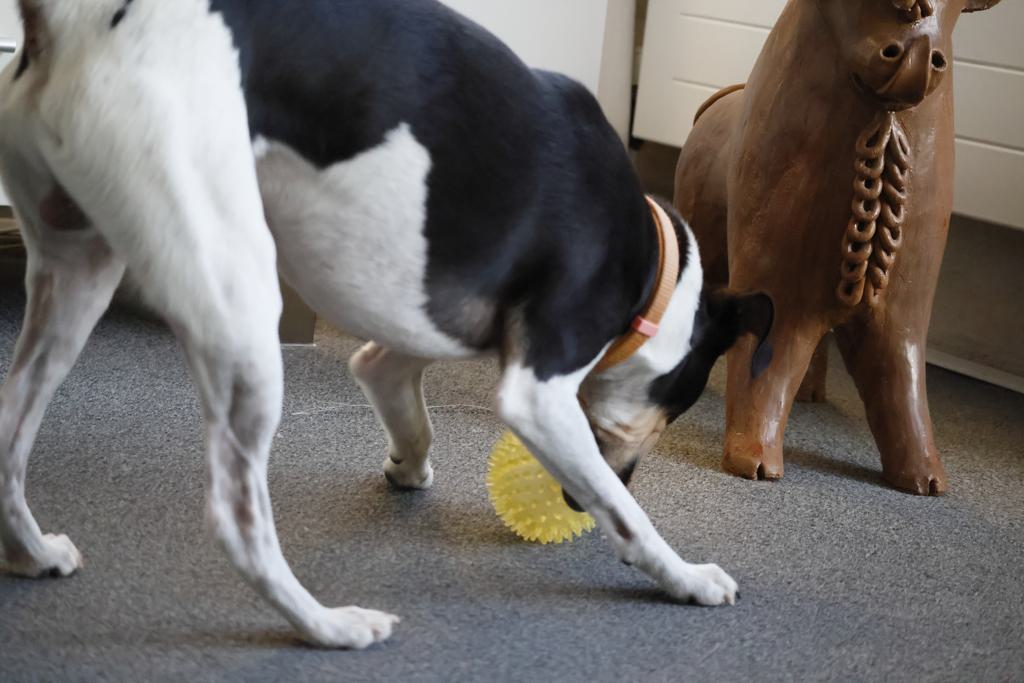Cattle: (638, 0, 1005, 502)
Dog: (0, 0, 788, 658)
